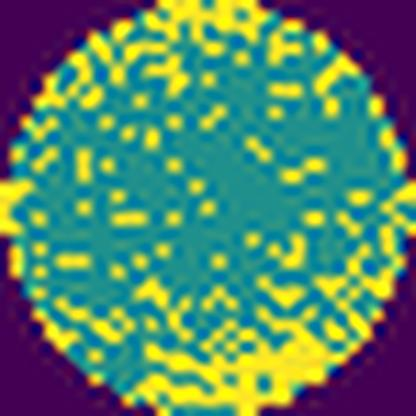Edge-Loc: (121, 223, 416, 415), (126, 0, 275, 62), (0, 172, 38, 243)
